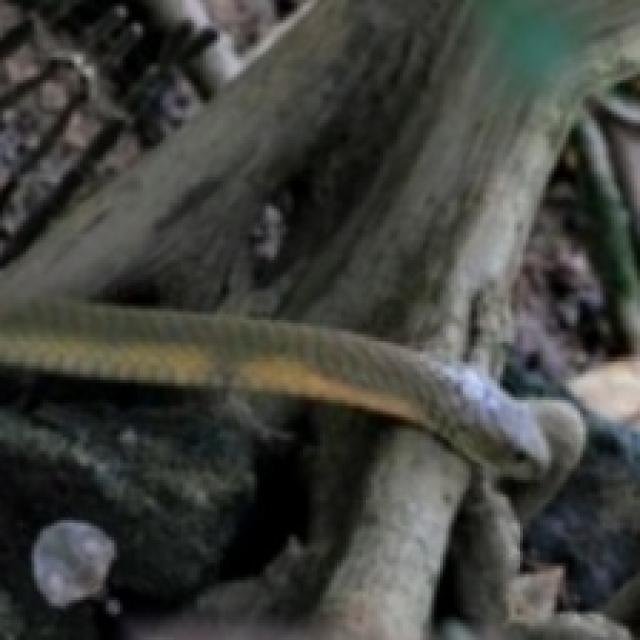king cobra: (0, 297, 549, 477)
